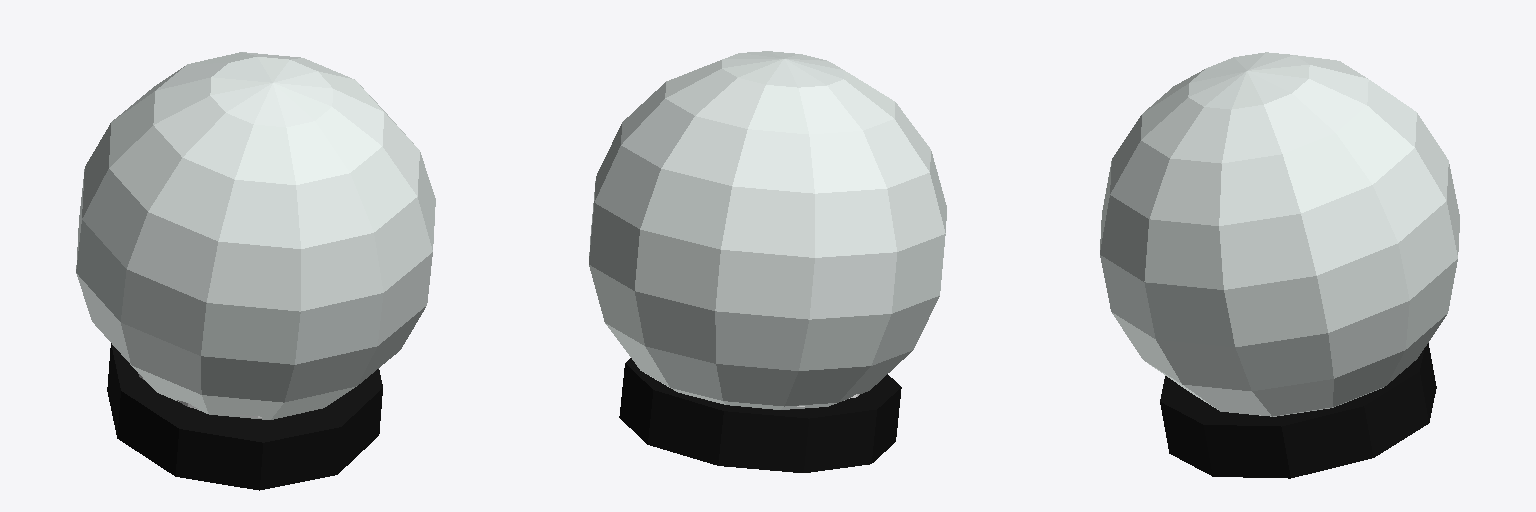
The picture shows the model from 3 angles: view 1: azimuth 30°, elevation 25°; view 2: azimuth 150°, elevation 25°; view 3: azimuth 270°, elevation 25°; orthographic projection.
Parts seen in each view (by area): view 1: group[number redacted], group[number redacted]; view 2: group[number redacted], group[number redacted]; view 3: group[number redacted], group[number redacted].
Part boxes in pixels (x1,y1,x2,y2): group[number redacted]: (76,52,435,419); group[number redacted]: (107,343,382,490); group[number redacted]: (589,51,946,409); group[number redacted]: (619,358,901,472); group[number redacted]: (1100,52,1459,416); group[number redacted]: (1160,343,1436,478).
Size of the model in its own units: 1.6 by 1.85 by 1.63.